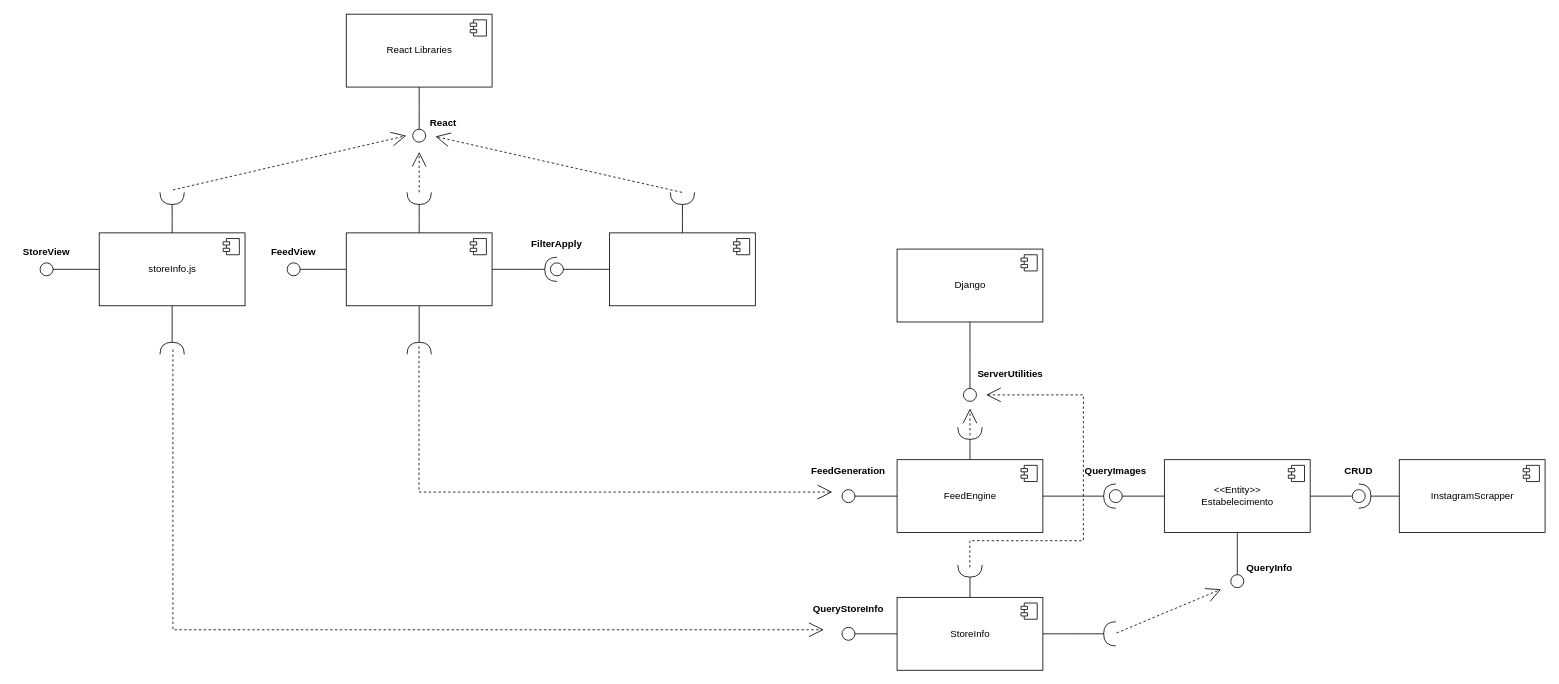
The diagram is 1559 pixels wide and 684 high, and some of its shapes have lost their labels. Each missing label, with the centre of its shape:
feed.js: the point at 418,269
filter.js: the point at 682,269
